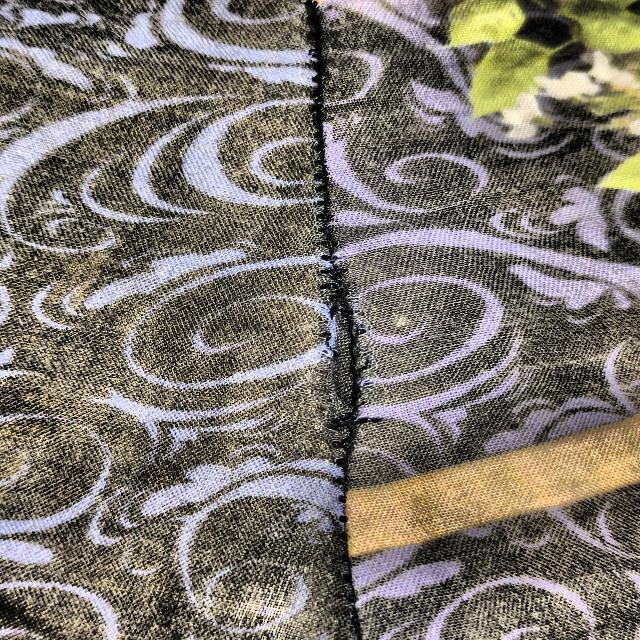gray stitch: (246, 244, 448, 506)
